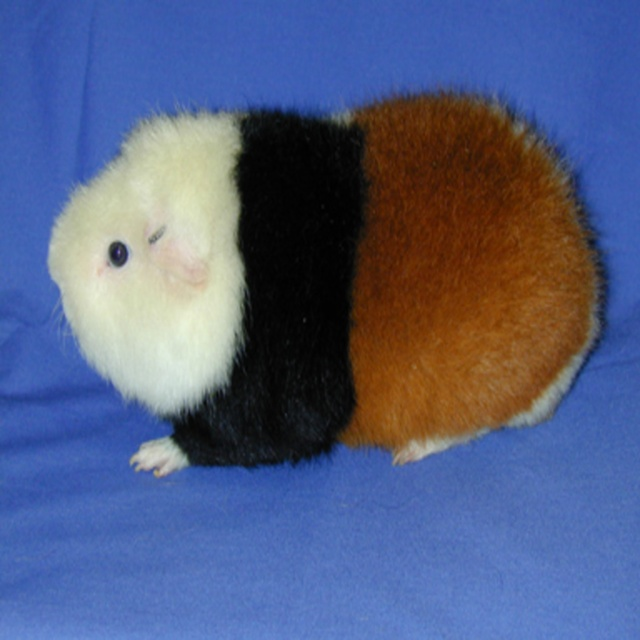Hamster: (35, 89, 615, 476)
